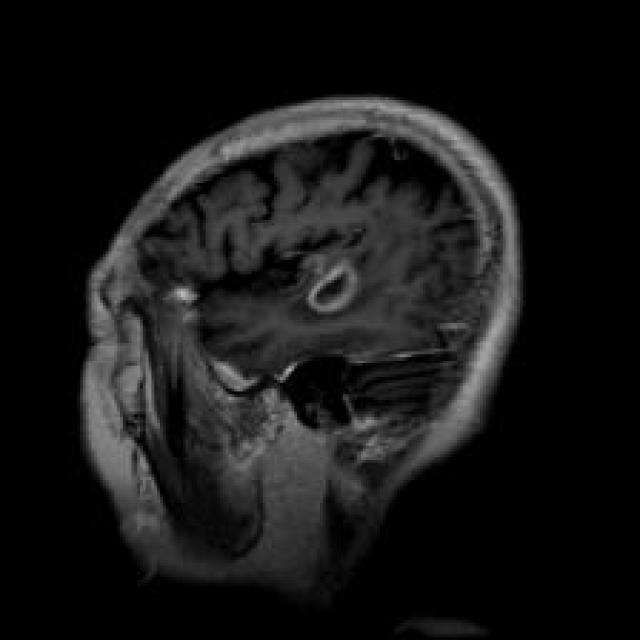glioma_tumor: (290, 247, 374, 327)
